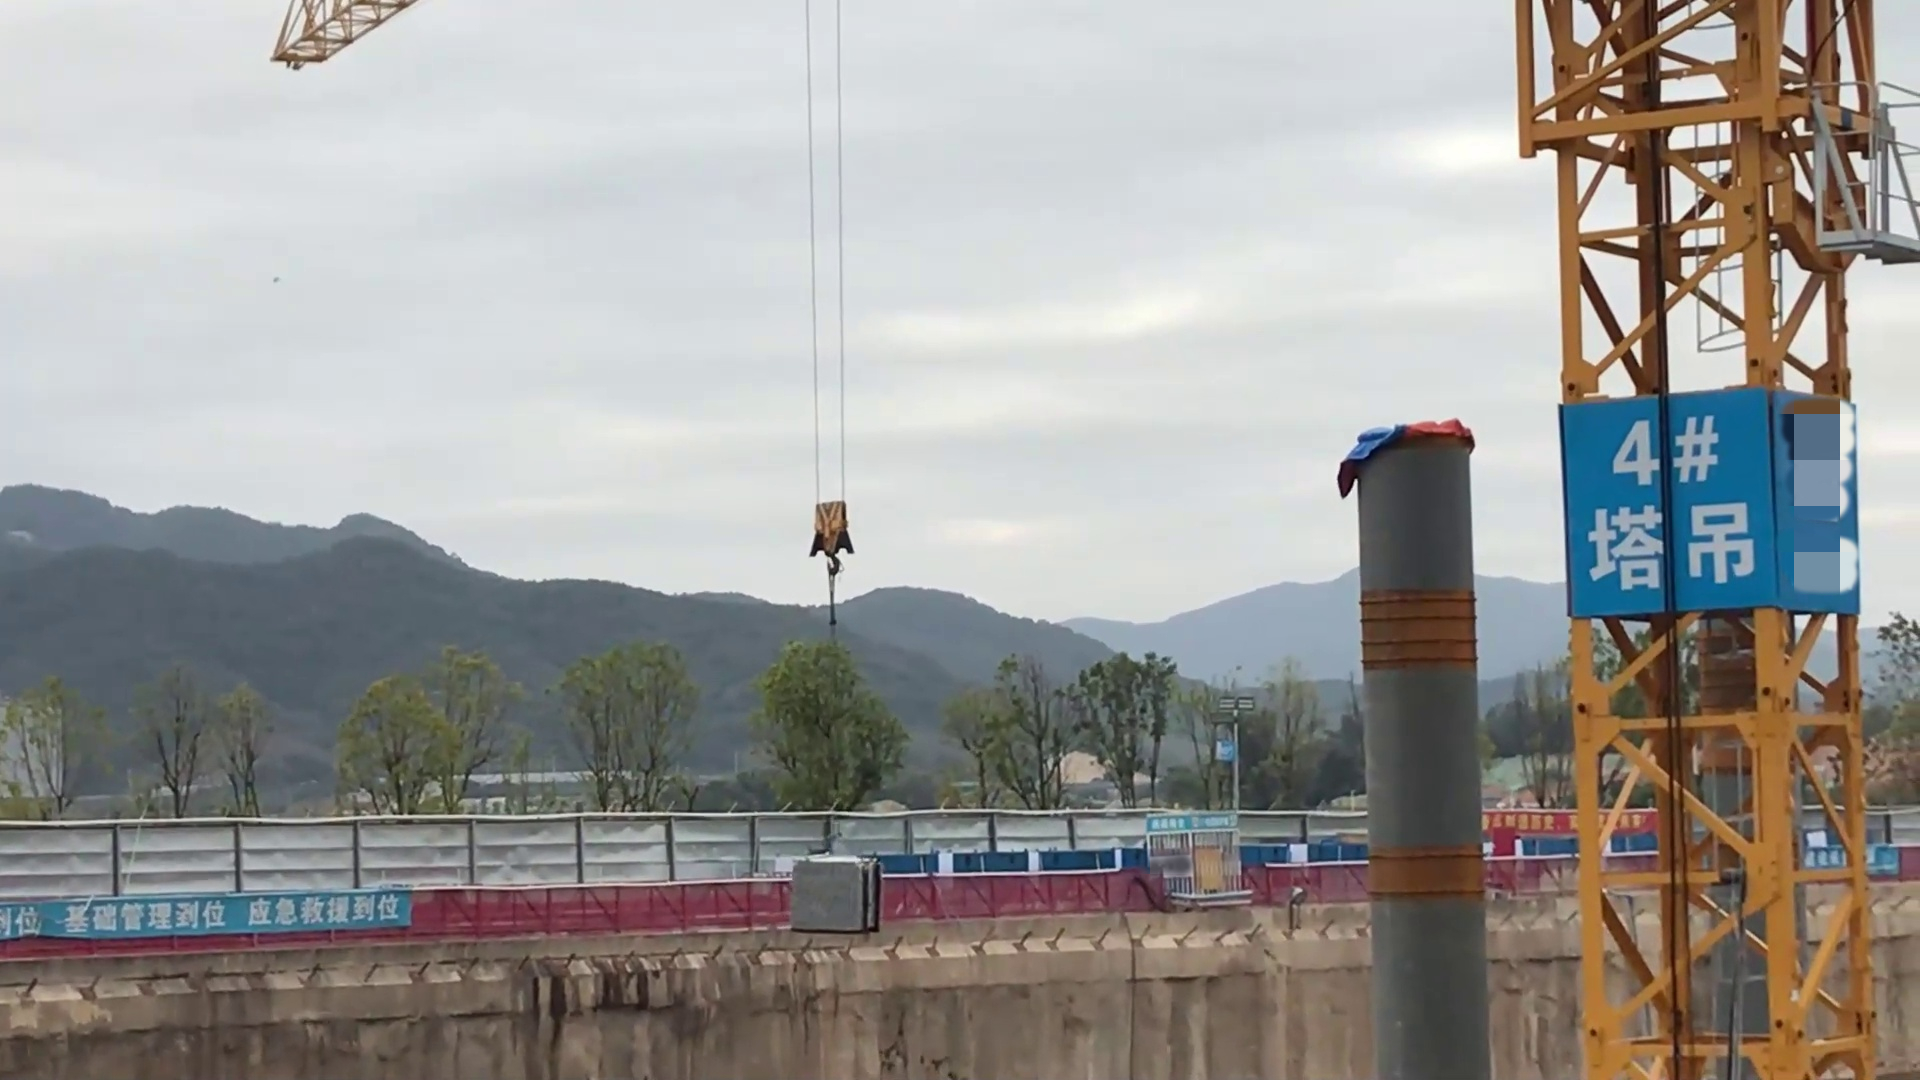hook: (806, 498, 861, 576)
slogan: (16, 885, 411, 949)
